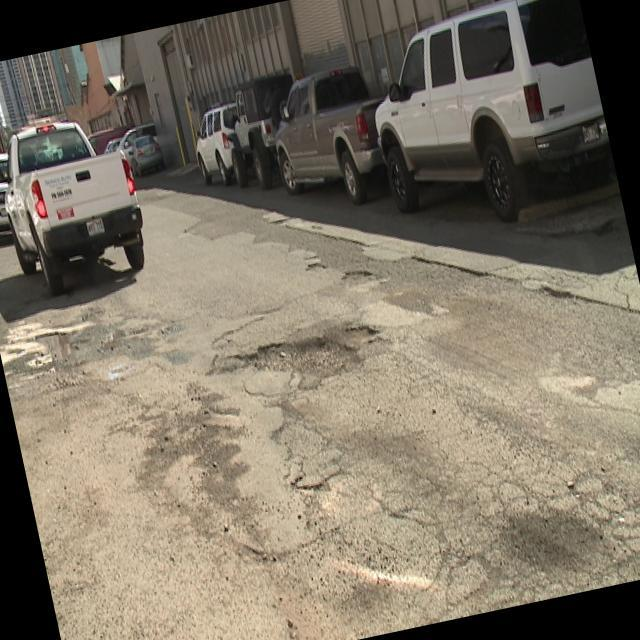Pothole: (233, 329, 348, 392), (11, 318, 88, 382), (342, 316, 380, 346), (338, 258, 374, 288)
